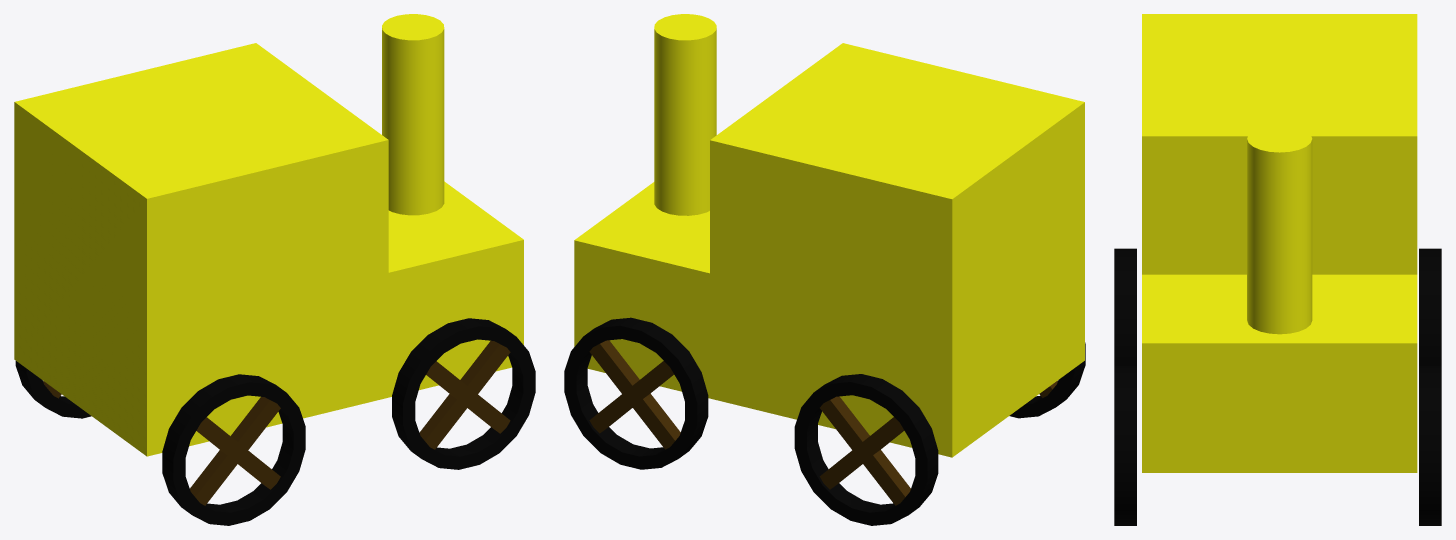
The model's file is train3.fbx.
The picture shows the model from 3 angles, left to right: view 1: azimuth 30°, elevation 25°; view 2: azimuth 150°, elevation 25°; view 3: azimuth 270°, elevation 25°; orthographic projection. The views are drawn at different scales.
Parts seen in each view (by area): view 1: pCube3, pCube4, wheel, wheel1, pCylinder1, wheel2; view 2: pCube3, pCube4, wheel2, wheel3, pCylinder1, wheel1; view 3: pCube3, pCube4, pCylinder1, wheel, wheel3, wheel1, wheel2.
Boxes of the visible parts, left/top/right/bottom form: pCube3: left=14, top=43, right=388, bottom=456; pCube4: left=388, top=181, right=523, bottom=397; wheel: left=392, top=318, right=535, bottom=469; wheel1: left=162, top=374, right=305, bottom=525; pCylinder1: left=382, top=14, right=444, bottom=215; wheel2: left=15, top=361, right=91, bottom=418; pCube3: left=710, top=43, right=1084, bottom=457; pCube4: left=574, top=182, right=710, bottom=398; wheel2: left=794, top=374, right=938, bottom=525; wheel3: left=564, top=317, right=708, bottom=469; pCylinder1: left=654, top=14, right=716, bottom=215; wheel1: left=1009, top=342, right=1085, bottom=418; pCube3: left=1142, top=14, right=1417, bottom=274; pCube4: left=1142, top=274, right=1417, bottom=472; pCylinder1: left=1247, top=125, right=1312, bottom=334; wheel: left=1114, top=365, right=1136, bottom=525; wheel3: left=1419, top=365, right=1441, bottom=525; wheel1: left=1114, top=248, right=1136, bottom=365; wheel2: left=1419, top=248, right=1441, bottom=365.
Bounding box in the file's own units: 2.88 × 2.74 × 2.08.
